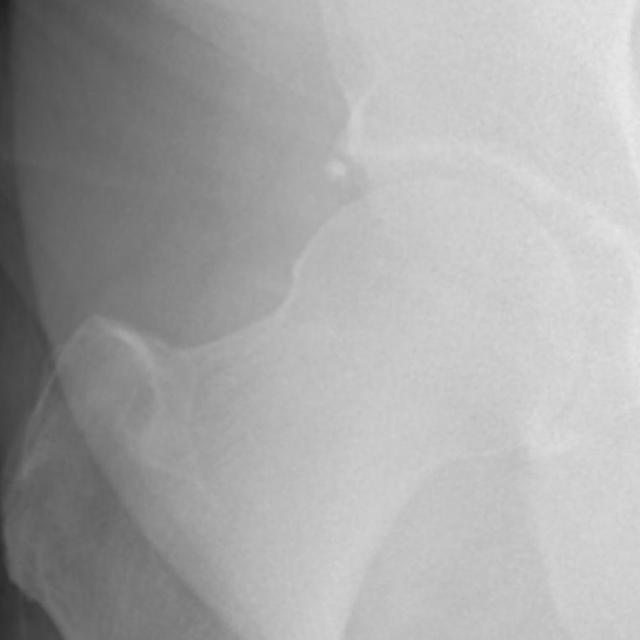Fitted_femural_head: (291, 176, 432, 291)
